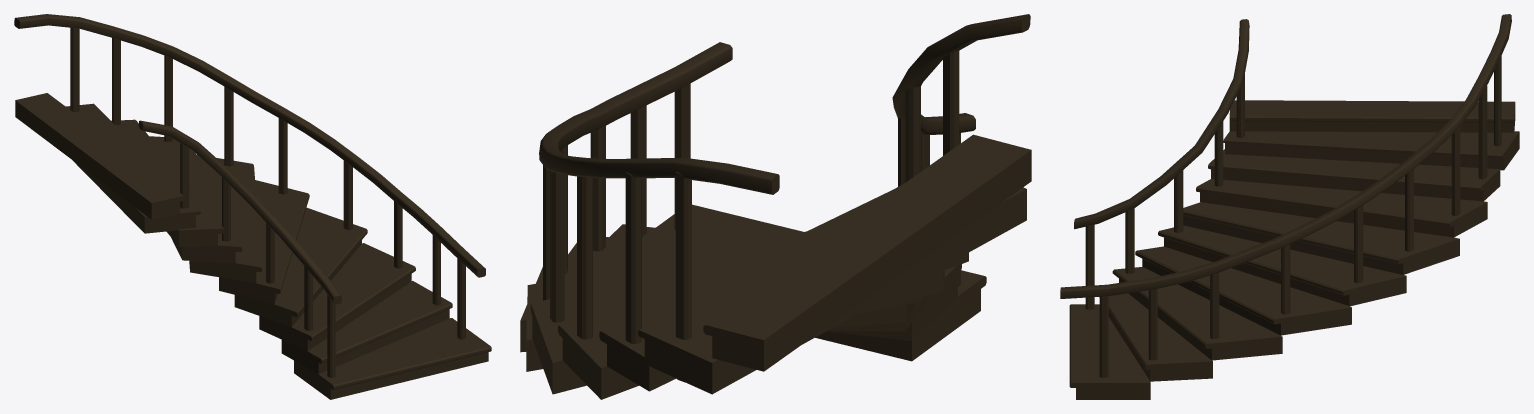
File: Stairs_Foyer_Mirrored.fbx
3 renders of one model, left to right at view 1: azimuth 30°, elevation 25°; view 2: azimuth 150°, elevation 25°; view 3: azimuth 270°, elevation 25°, orthographic. The views are drawn at different scales.
Visible parts, largest first — view 1: pCube37, pCube63, sweep1, pCube64, pCube62, pCube61, pCube60, pCube59, pCube36, sweep2, pCube58, pCube57 (+14 smaller); view 2: pCube37, pCube36, sweep1, pCube59, pCube63, pCube58, pCube57, sweep2, pCube61, pCube46, pCube47, pCube45 (+12 smaller); view 3: pCube59, pCube37, pCube58, pCube36, pCube57, pCube60, sweep1, pCube61, pCube62, pCube63, pCube64, sweep2 (+14 smaller).
Part boxes in pixels (<box>): pCube37: <box>15,93,184,219</box>; pCube63: <box>294,318,491,399</box>; sweep1: <box>14,14,485,277</box>; pCube64: <box>281,281,452,374</box>; pCube62: <box>259,243,415,351</box>; pCube61: <box>234,207,367,327</box>; pCube60: <box>219,180,309,304</box>; pCube59: <box>189,154,261,283</box>; pCube36: <box>66,103,200,233</box>; sweep2: <box>138,120,341,304</box>; pCube58: <box>149,136,242,263</box>; pCube57: <box>111,119,224,247</box>; pCube37: <box>703,134,1031,371</box>; pCube36: <box>638,184,1026,394</box>; sweep1: <box>539,42,779,194</box>; pCube59: <box>530,231,943,394</box>; pCube63: <box>656,204,986,361</box>; pCube58: <box>558,233,968,399</box>; pCube57: <box>599,191,889,391</box>; sweep2: <box>892,14,1030,134</box>; pCube61: <box>520,240,914,352</box>; pCube46: <box>625,172,641,343</box>; pCube47: <box>675,171,691,382</box>; pCube45: <box>577,176,592,339</box>; pCube59: <box>1183,202,1459,274</box>; pCube37: <box>1229,100,1515,132</box>; pCube58: <box>1196,179,1487,237</box>; pCube36: <box>1223,131,1519,170</box>; pCube57: <box>1208,149,1500,201</box>; pCube60: <box>1158,225,1406,306</box>; sweep1: <box>1060,14,1511,298</box>; pCube61: <box>1135,246,1351,335</box>; pCube62: <box>1112,267,1282,360</box>; pCube63: <box>1069,304,1150,399</box>; pCube64: <box>1099,293,1212,381</box>; sweep2: <box>1074,19,1249,229</box>.
Size of the model in its own units: 93.1 by 84.4 by 137.
